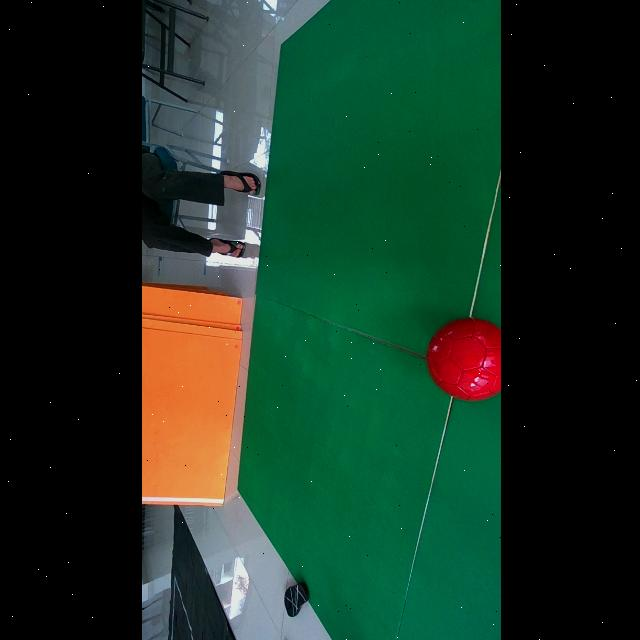R: (425, 317, 500, 401)
